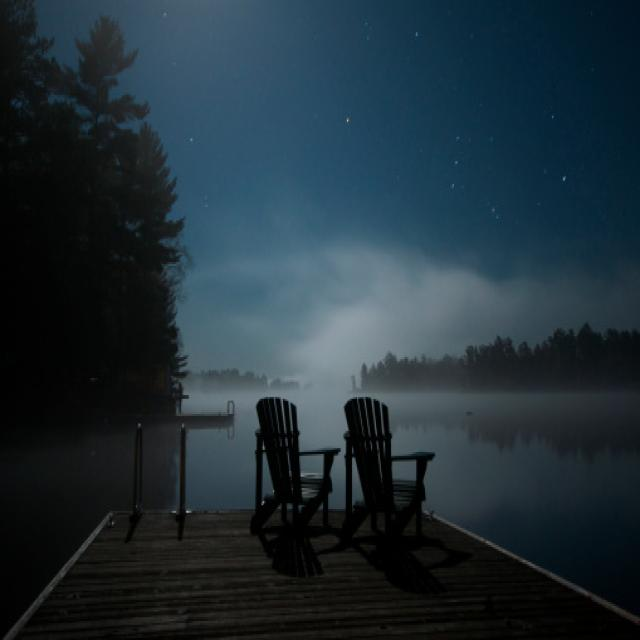chair: (223, 390, 356, 586), (335, 383, 443, 556)
